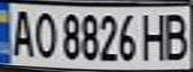2: (96, 10, 121, 62)
6: (115, 10, 142, 62)
8: (57, 9, 81, 61), (78, 10, 100, 62)
A: (6, 6, 36, 58)
B: (160, 9, 193, 61)
H: (139, 10, 172, 62)
O: (30, 8, 57, 60)
